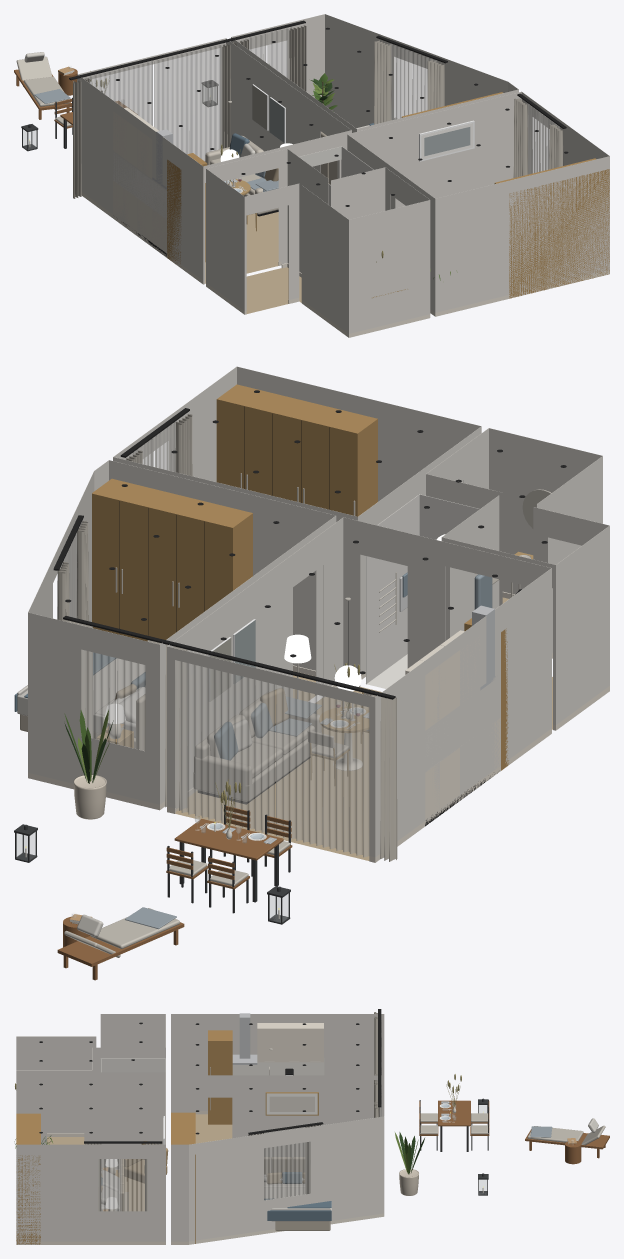
The model's file is unit-0.B-atlantic.glb.
3 views of the same model, one above another, from view 1: azimuth 30°, elevation 25°; view 2: azimuth 150°, elevation 25°; view 3: azimuth 270°, elevation 25° (orthographic). The views are drawn at different scales.
Visible parts, largest first — view 1: int-wall, int-sheer, int-joineryTall, int-curtain, int-joinery, int-floor, int-hallFloor, int-matteBlack, int-splash, int-outCushion, int-bathWall, int-teak (+9 smaller); view 2: int-wall, int-joineryTall, int-sheer, int-floor, int-curtain, int-bathWall, int-joinery, int-teak, int-sofa, int-outdoor, int-matteBlack, int-outCushion (+12 smaller); view 3: int-wall, int-sheer, int-joineryTall, int-joinery, int-teak, int-headboard, int-outCushion, int-floor, int-splash, int-curtain, int-bathWall, int-bedThrow (+9 smaller).
Part boxes in pixels (box(x1,y1,x2,y2)): int-wall: box(77, 14, 609, 333); int-sheer: box(84, 27, 559, 174); int-joineryTall: box(167, 92, 609, 298); int-curtain: box(73, 25, 563, 198); int-joinery: box(81, 107, 609, 337); int-floor: box(205, 212, 278, 283); int-hallFloor: box(246, 267, 301, 313); int-matteBlack: box(69, 20, 566, 256); int-splash: box(113, 153, 166, 217); int-outCushion: box(16, 56, 72, 126); int-bathWall: box(299, 146, 373, 206); int-teak: box(14, 68, 137, 128); int-wall: box(28, 366, 609, 857); int-joineryTall: box(92, 384, 508, 770); int-sheer: box(57, 420, 369, 857); int-floor: box(175, 671, 381, 860); int-curtain: box(57, 414, 397, 861); int-bathWall: box(366, 494, 479, 684); int-joinery: box(28, 591, 609, 862); int-teak: box(57, 806, 292, 980); int-sofa: box(193, 691, 321, 801); int-outdoor: box(14, 804, 290, 924); int-matteBlack: box(53, 408, 497, 826); int-outCushion: box(64, 841, 290, 957); int-wall: box(16, 1014, 384, 1241); int-sheer: box(98, 1020, 381, 1211); int-joineryTall: box(16, 1030, 232, 1244); int-joinery: box(16, 1023, 384, 1244); int-teak: box(419, 1100, 609, 1164); int-headboard: box(120, 1157, 330, 1230); int-outCushion: box(420, 1113, 605, 1147); int-floor: box(118, 1114, 232, 1210); int-splash: box(232, 1058, 324, 1075); int-curtain: box(85, 1012, 379, 1211); int-bathWall: box(100, 1058, 165, 1072); int-bedThrow: box(264, 1199, 331, 1220).
Bounding box in the file's own units: 7.77 × 2.82 × 14.48.
